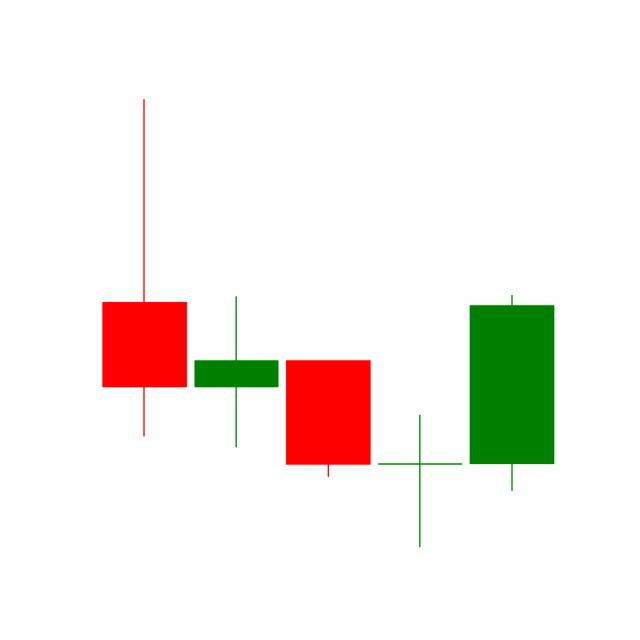Spinning Top: (373, 412, 467, 549)
